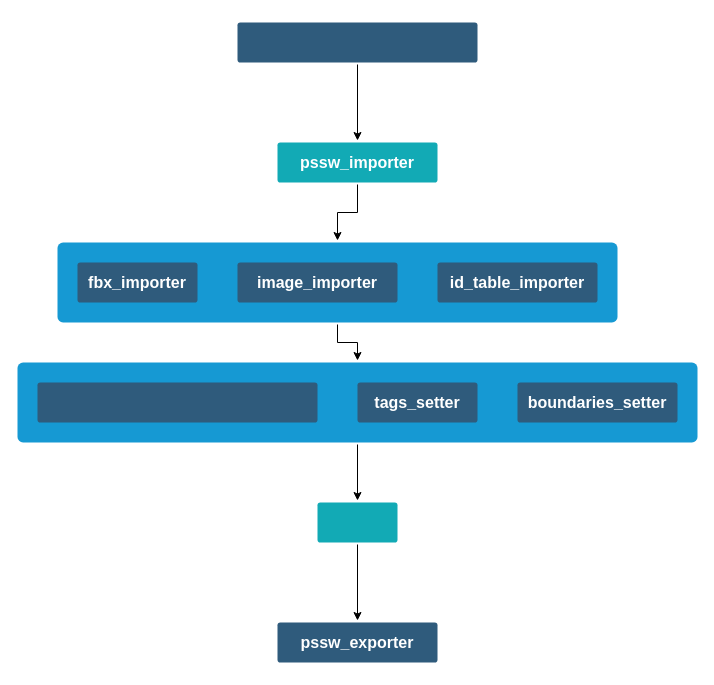
Some shapes in this 714 by 685 pixel diagram are drawn without their labels. Each missing label, with the centre of its shape:
"home_tour_start_position_setter" goes at point (177, 402).
"matterport_data_downloader" goes at point (357, 42).
"reverser" goes at point (357, 522).
